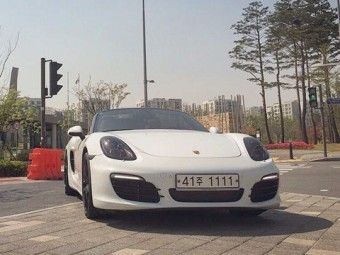car: (174, 172, 242, 190)
